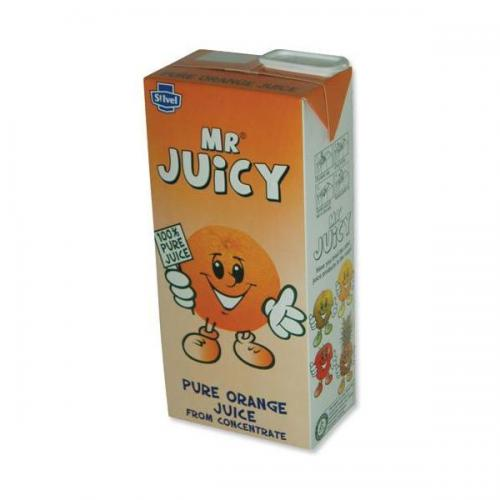carton: (128, 15, 388, 464)
